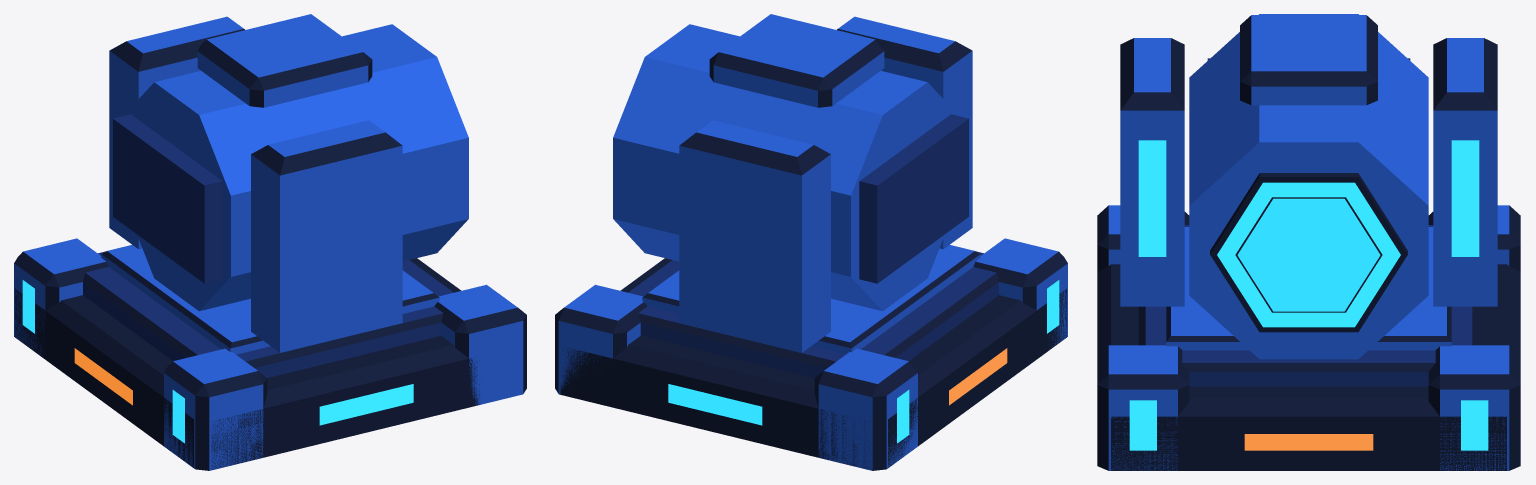
Rendered from receiver_v1_hex.glb.
The picture shows the model from 3 angles, left to right: view 1: azimuth 30°, elevation 25°; view 2: azimuth 150°, elevation 25°; view 3: azimuth 270°, elevation 25°; orthographic projection. The views are drawn at different scales.
Parts seen in each view (by area): view 1: Receiver_Body, Receiver_Lights; view 2: Receiver_Body, Receiver_Lights; view 3: Receiver_Body, Receiver_Lights, Receiver_Core.
Part boxes in pixels (left/top/right/bottom): Receiver_Body: left=14, top=14, right=526, bottom=470; Receiver_Lights: left=22, top=280, right=413, bottom=443; Receiver_Body: left=555, top=14, right=1067, bottom=470; Receiver_Lights: left=668, top=280, right=1059, bottom=443; Receiver_Body: left=1097, top=14, right=1520, bottom=470; Receiver_Lights: left=1129, top=140, right=1488, bottom=450; Receiver_Core: left=1237, top=198, right=1380, bottom=311.
Size of the model in its own units: 0.924 by 0.8401 by 0.924.
